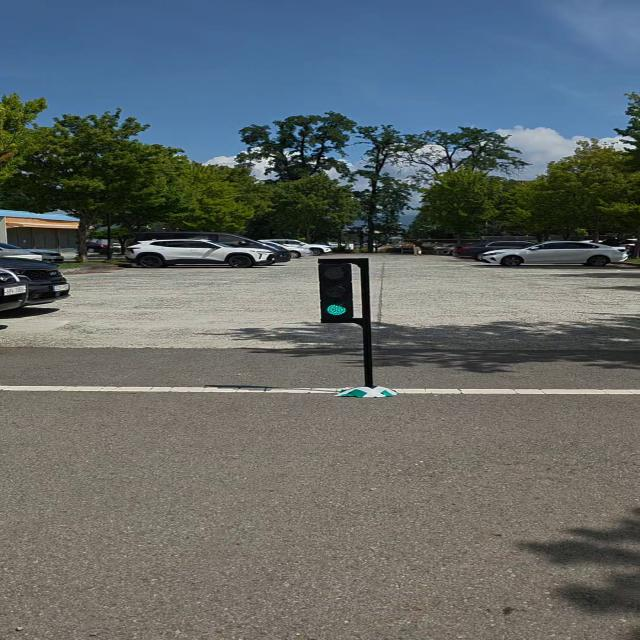green: (322, 260, 354, 321)
